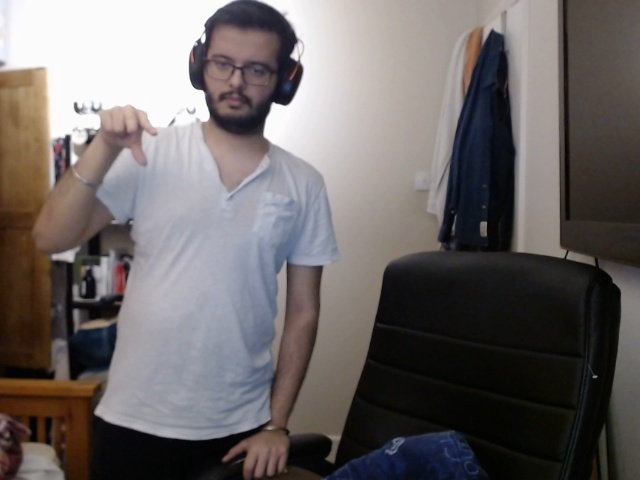No: (90, 101, 161, 166)
